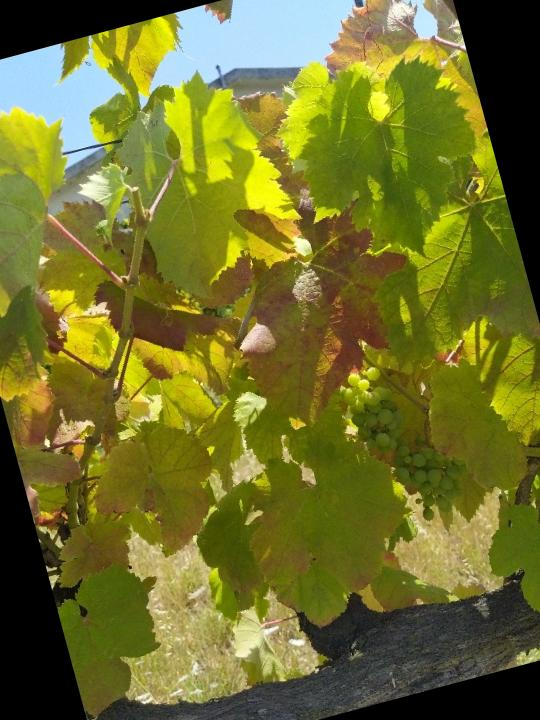grape: (332, 346, 477, 539)
